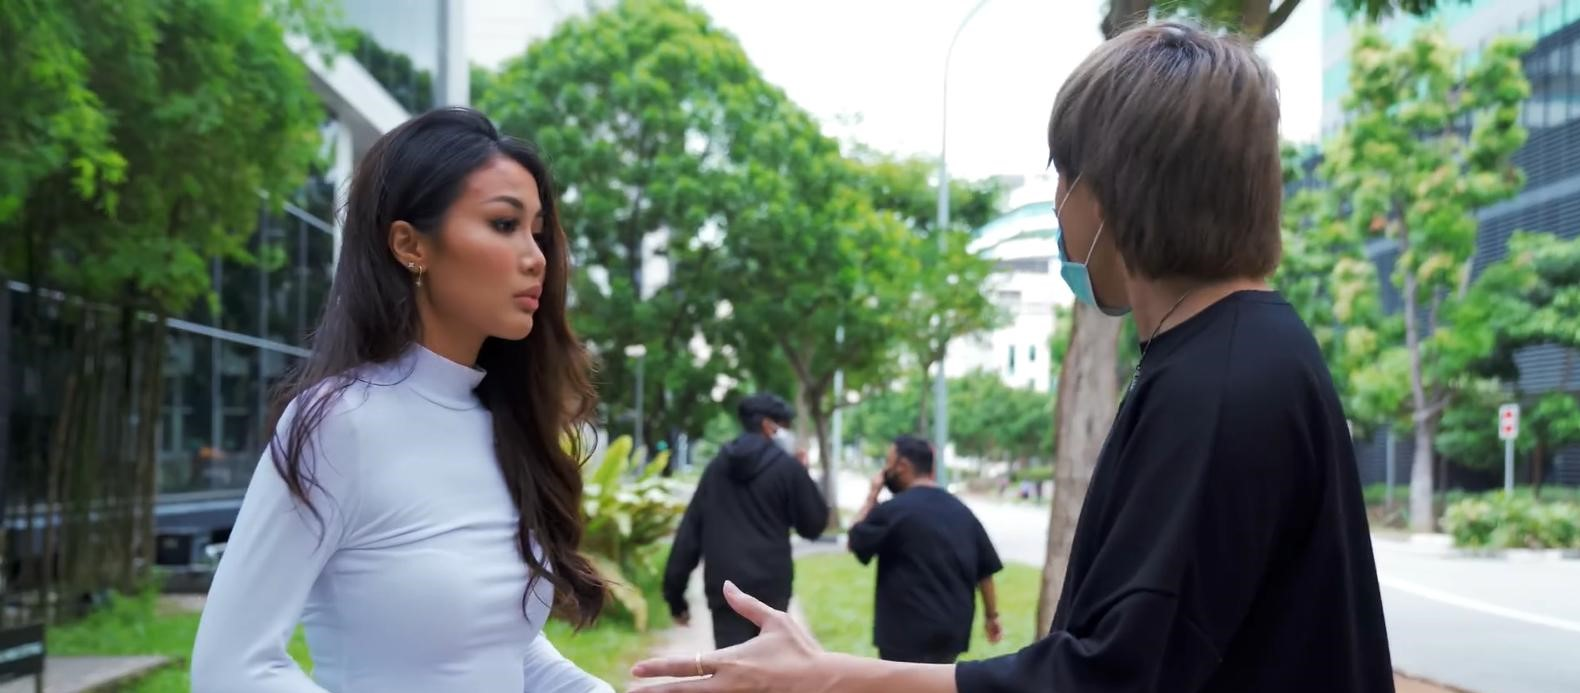with_mask: (1054, 162, 1106, 298), (759, 417, 793, 448), (888, 457, 913, 491)
without_mask: (450, 199, 536, 322)
